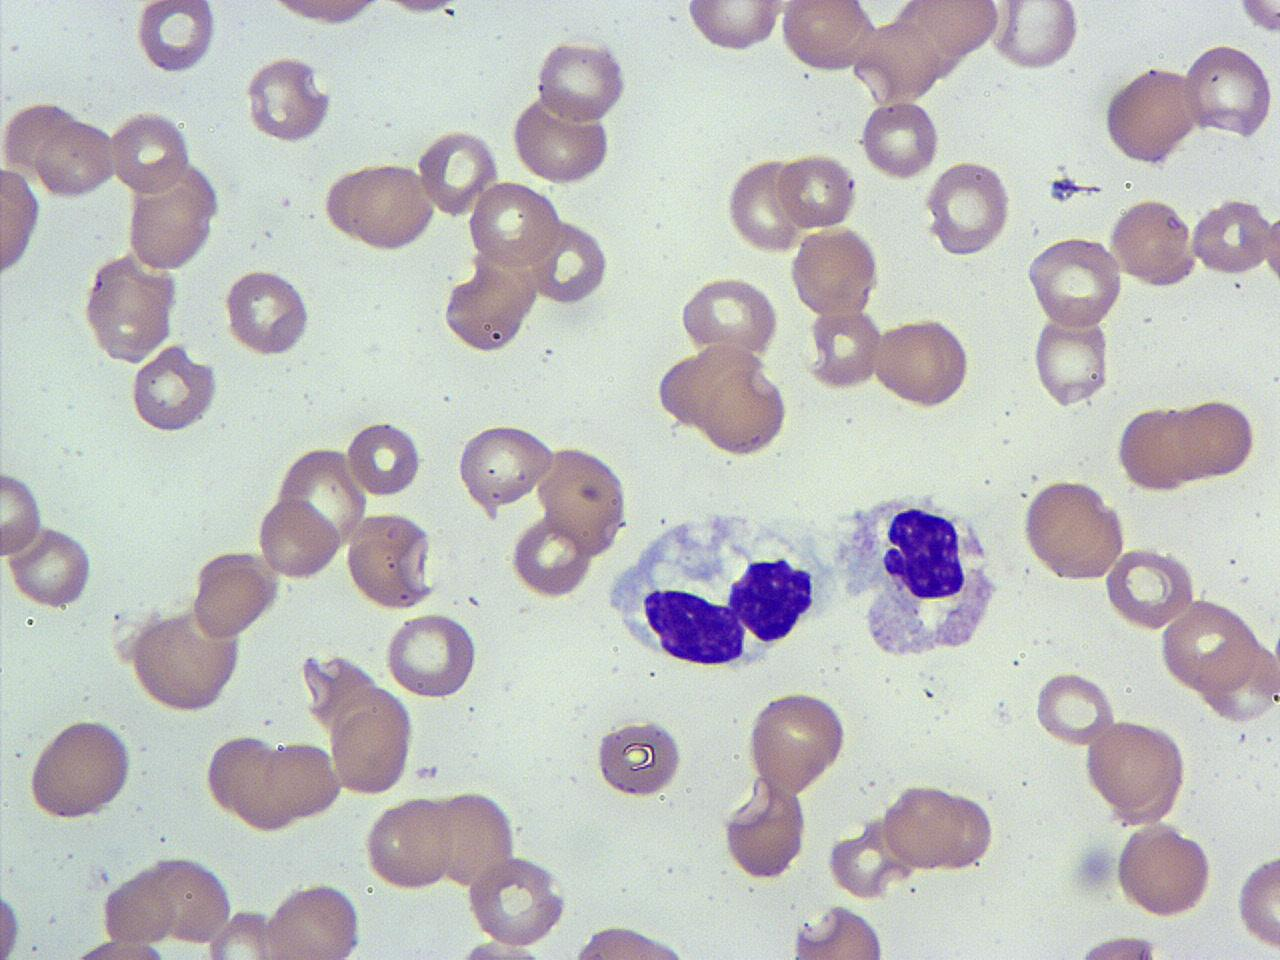Platelets: (1067, 840, 1123, 896), (1046, 177, 1080, 205)
RBC: (128, 609, 243, 714), (651, 344, 778, 439), (26, 716, 136, 824), (1020, 477, 1130, 584), (1081, 716, 1191, 820), (746, 688, 850, 798), (321, 160, 440, 254), (81, 254, 180, 364), (276, 442, 368, 558), (124, 161, 218, 274), (1101, 64, 1203, 166), (1113, 820, 1215, 920), (872, 314, 976, 410), (326, 688, 416, 798), (466, 853, 568, 948), (345, 508, 438, 611), (453, 421, 556, 513), (1159, 598, 1261, 692), (786, 222, 884, 318), (533, 443, 629, 539), (431, 786, 518, 892), (1182, 41, 1274, 142), (510, 94, 613, 184), (721, 778, 809, 882), (362, 793, 455, 891), (1024, 236, 1124, 328), (922, 158, 1014, 256), (466, 179, 564, 270), (676, 275, 783, 358), (382, 610, 480, 700), (189, 546, 279, 642), (532, 36, 630, 125), (127, 344, 220, 437), (243, 53, 335, 146), (222, 264, 312, 358), (1103, 544, 1197, 632), (698, 366, 790, 457), (442, 266, 537, 354), (262, 880, 366, 960), (144, 854, 234, 946), (4, 520, 94, 612), (255, 492, 344, 584), (593, 714, 686, 800), (724, 156, 804, 254), (416, 126, 500, 217), (1030, 314, 1110, 408), (1115, 403, 1199, 492), (1107, 196, 1195, 280), (530, 214, 610, 308), (912, 784, 996, 872), (257, 738, 345, 822), (110, 106, 191, 196), (1173, 395, 1259, 480), (33, 116, 118, 201), (203, 732, 286, 818), (1187, 194, 1273, 277), (882, 782, 961, 872), (858, 97, 942, 179), (511, 514, 593, 599), (780, 0, 874, 74), (1032, 669, 1116, 748), (806, 306, 883, 392), (987, 1, 1081, 70), (346, 418, 424, 500), (775, 151, 857, 230), (134, 0, 218, 76), (785, 899, 889, 960), (100, 870, 177, 949), (684, 0, 785, 54), (1232, 846, 1280, 954), (0, 162, 43, 281), (563, 923, 703, 959), (204, 906, 286, 960), (0, 468, 46, 562), (262, 0, 388, 32), (1067, 930, 1165, 960), (60, 936, 178, 960), (447, 936, 558, 960), (1260, 202, 1280, 296), (0, 883, 24, 960), (1235, 0, 1279, 37)
WBC: (603, 502, 827, 676), (837, 483, 1005, 666)
